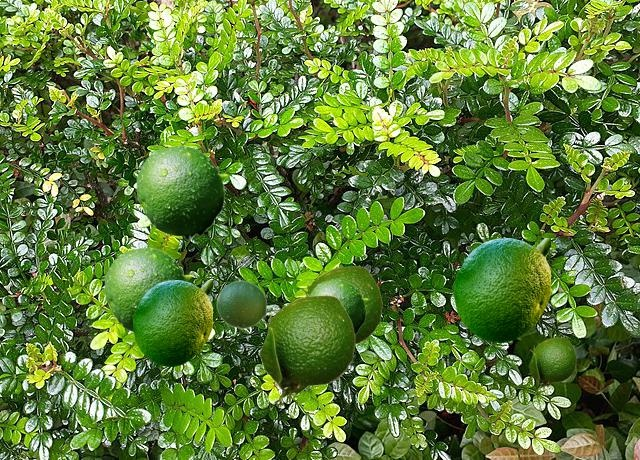dalandan: (258, 295, 354, 403), (454, 238, 549, 341), (136, 145, 227, 239), (104, 247, 191, 332), (133, 280, 211, 365), (300, 266, 381, 344), (310, 279, 367, 334), (528, 337, 575, 390), (216, 280, 266, 328)
